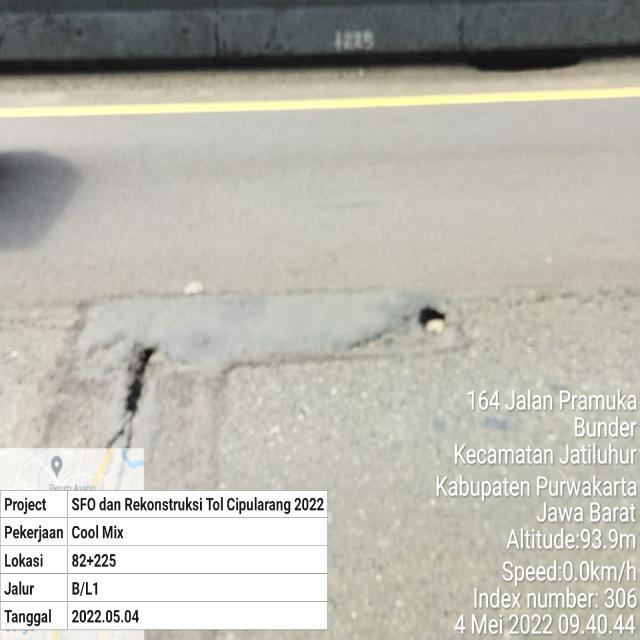Buraco: (121, 340, 161, 416), (416, 304, 452, 338)
